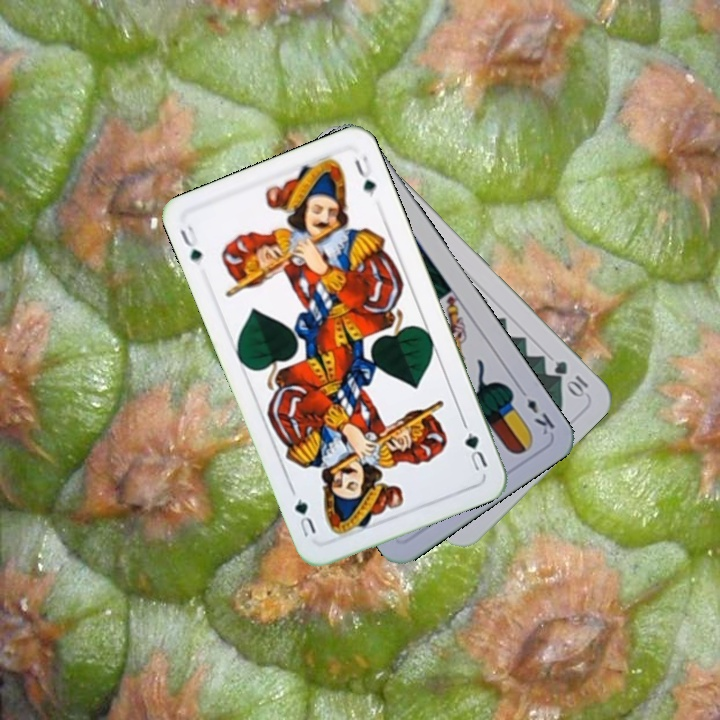EK: (514, 383, 558, 438)
G10: (550, 356, 591, 400)
GU: (460, 428, 491, 474), (175, 221, 205, 266)
